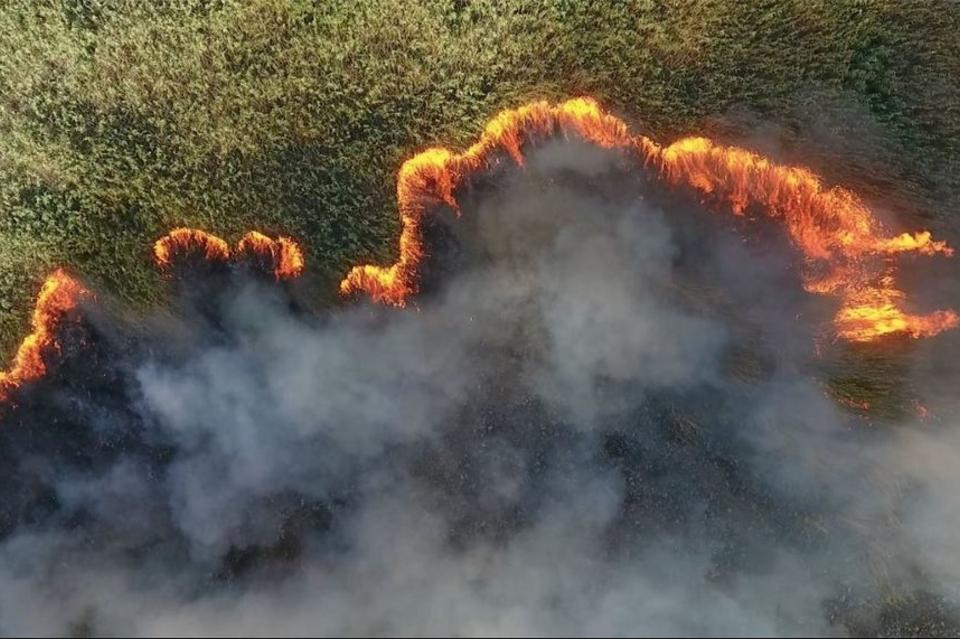fire: (338, 98, 958, 340), (1, 265, 99, 402), (149, 226, 308, 282)
